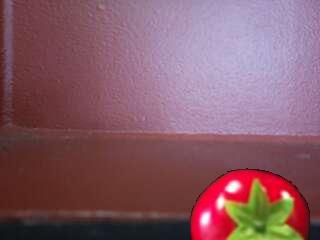Tomato: (192, 169, 310, 240)
